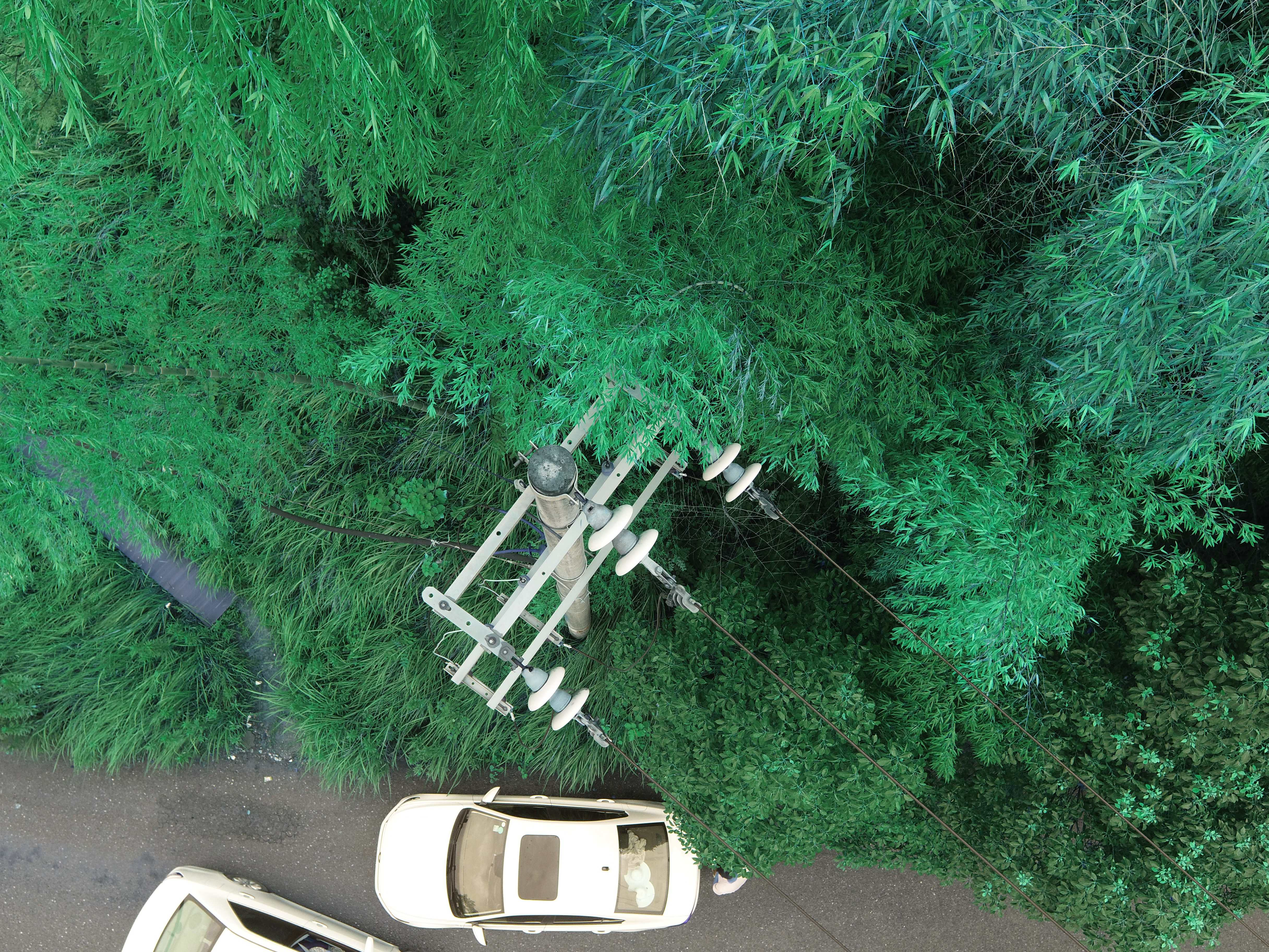severe_soiling_no_discharge_whole: (519, 658, 591, 733)
